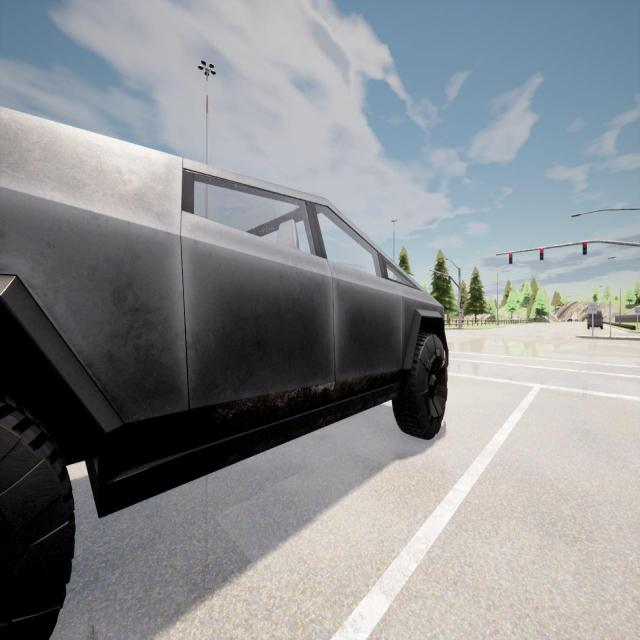Traffic_Signs: (588, 304, 597, 314), (458, 312, 464, 318), (635, 306, 640, 313)
Vehicle: (0, 108, 448, 637), (586, 310, 604, 329), (574, 318, 579, 322), (568, 318, 572, 322)
traffic_light: (583, 242, 587, 255), (434, 272, 438, 283), (540, 248, 543, 260), (509, 253, 512, 264), (448, 276, 451, 284), (441, 273, 443, 283)
